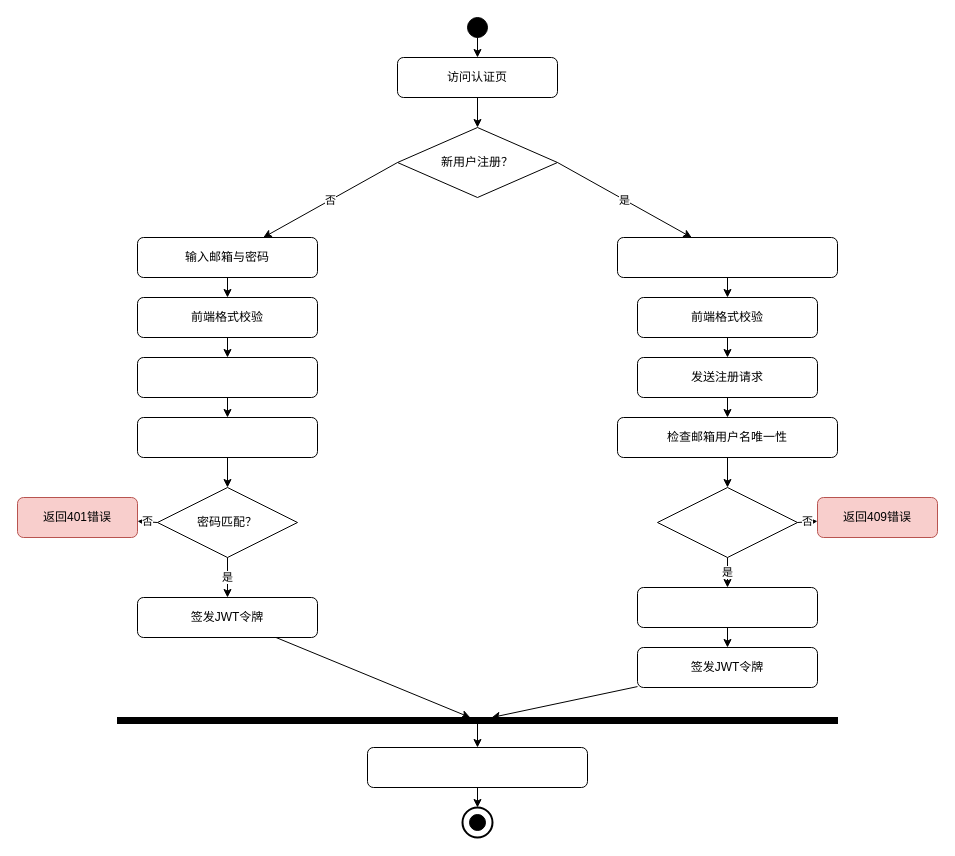
Image size: 955x856. Some labels were removed from this diagram. The centre of each missing label's shape, as x and y in pixels:
"创建用户记录" belongs at (x=727, y=607).
"前端存储令牌并跳转首页" belongs at (x=477, y=767).
"发送登录请求" belongs at (x=227, y=377).
"可注册？" belongs at (x=727, y=522).
"后端比对密码哈希" belongs at (x=227, y=437).
"输入邮箱、用户名、密码" belongs at (x=727, y=257).
